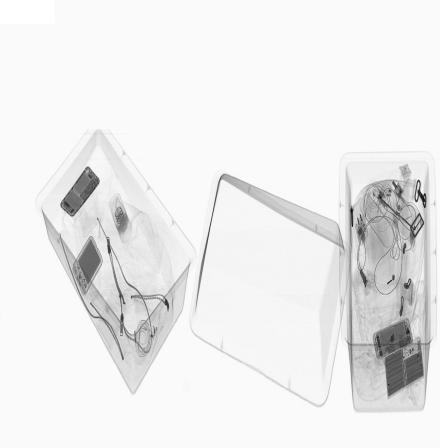Powerbank: (383, 336, 425, 399), (71, 235, 104, 296)
